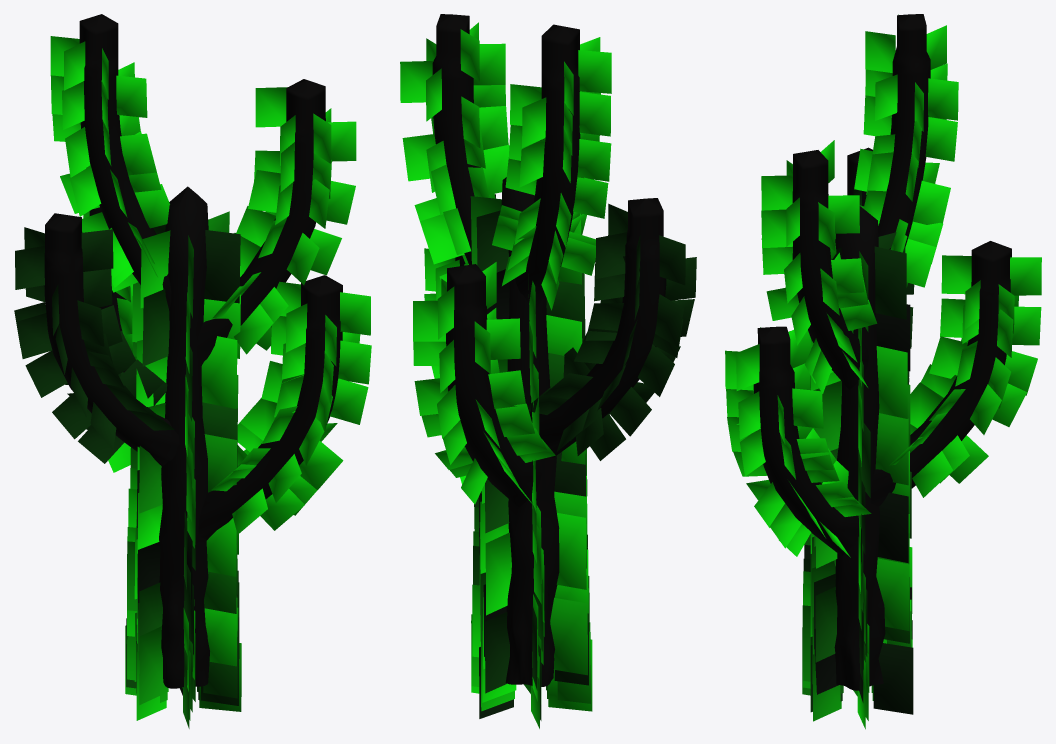
Rendered from Cactus_1_15.fbx.
The picture shows the model from 3 angles, left to right: view 1: azimuth 30°, elevation 25°; view 2: azimuth 150°, elevation 25°; view 3: azimuth 270°, elevation 25°; orthographic projection. The views are drawn at different scales.
Visible parts, largest first — view 1: Cactus_1_15; view 2: Cactus_1_15; view 3: Cactus_1_15.
Part boxes in pixels (x1,y1,x2,y2): Cactus_1_15: (14,14,371,728); Cactus_1_15: (400,14,696,728); Cactus_1_15: (725,14,1041,729).
Size of the model in its own units: 159 by 347 by 150.
